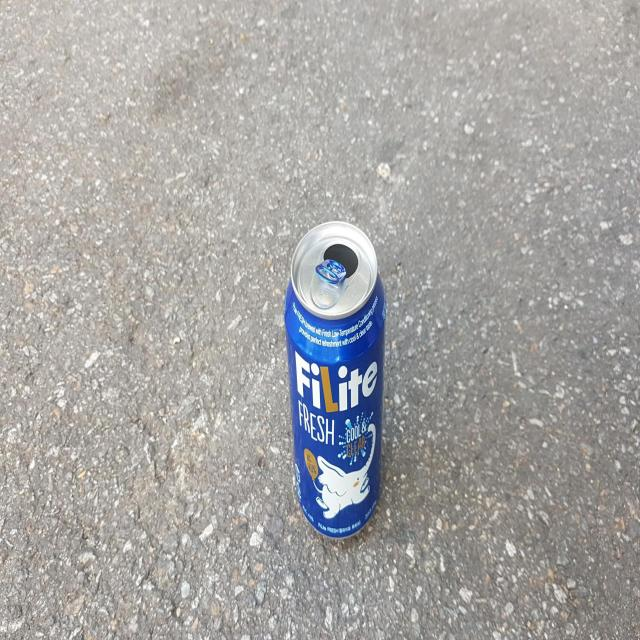can: (284, 220, 386, 538)
